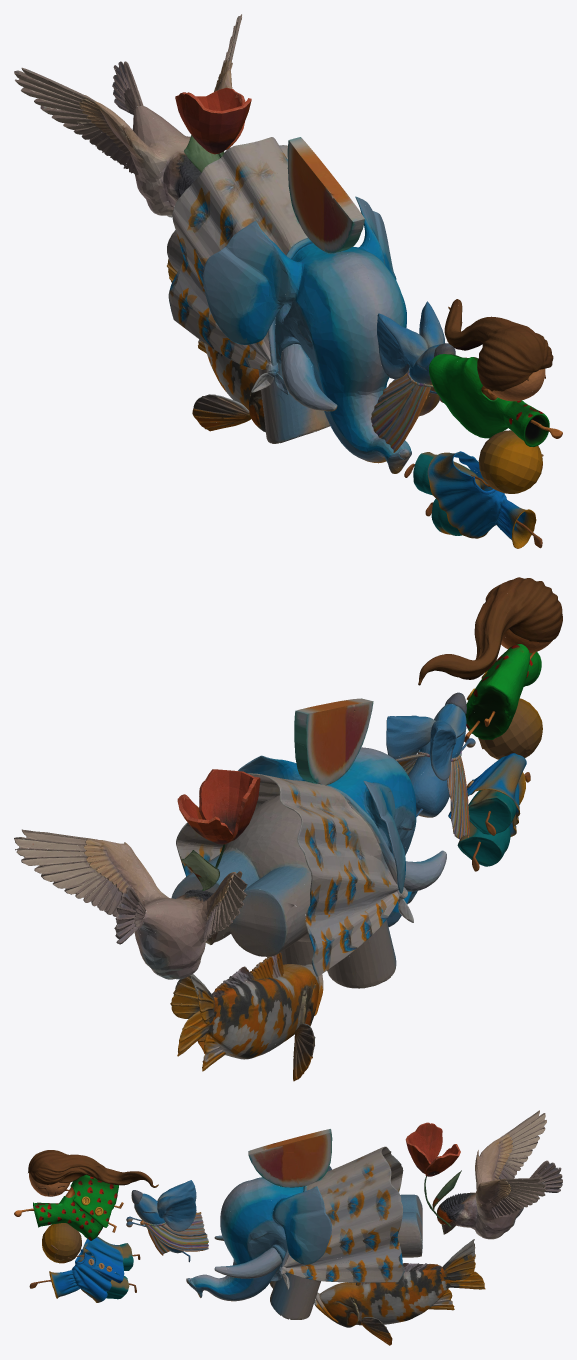
3 renders of one model, top to bottom at view 1: azimuth 30°, elevation 25°; view 2: azimuth 150°, elevation 25°; view 3: azimuth 270°, elevation 25°, orthographic. The views are drawn at different scales.
Parts seen in each view (by area): view 1: tripo_node_d55093e4-e00e-4db2-96e2-caa514134929, tripo_node_5f0a9131-3fd6-4fd2-bee0-905826a6d07b, tripo_node_90b011cb-3a7d-48a0-83c6-9944ffa150be, tripo_node_15bb5778-4c4e-4aad-800e-e8a74e84614e, tripo_node_f69ad805-37d6-4be0-85cd-078c4464b952, tripo_node_a7ec950e-5974-40b7-a642-7114323a2c81; view 2: tripo_node_d55093e4-e00e-4db2-96e2-caa514134929, tripo_node_5f0a9131-3fd6-4fd2-bee0-905826a6d07b, tripo_node_a7ec950e-5974-40b7-a642-7114323a2c81, tripo_node_90b011cb-3a7d-48a0-83c6-9944ffa150be, tripo_node_f69ad805-37d6-4be0-85cd-078c4464b952, tripo_node_15bb5778-4c4e-4aad-800e-e8a74e84614e; view 3: tripo_node_d55093e4-e00e-4db2-96e2-caa514134929, tripo_node_5f0a9131-3fd6-4fd2-bee0-905826a6d07b, tripo_node_a7ec950e-5974-40b7-a642-7114323a2c81, tripo_node_90b011cb-3a7d-48a0-83c6-9944ffa150be, tripo_node_15bb5778-4c4e-4aad-800e-e8a74e84614e, tripo_node_f69ad805-37d6-4be0-85cd-078c4464b952.
Part boxes in pixels (box(x1,y1,x2,y2)): tripo_node_d55093e4-e00e-4db2-96e2-caa514134929: box(167, 137, 411, 473); tripo_node_5f0a9131-3fd6-4fd2-bee0-905826a6d07b: box(14, 14, 251, 217); tripo_node_90b011cb-3a7d-48a0-83c6-9944ffa150be: box(429, 299, 562, 446); tripo_node_15bb5778-4c4e-4aad-800e-e8a74e84614e: box(404, 430, 543, 548); tripo_node_f69ad805-37d6-4be0-85cd-078c4464b952: box(371, 301, 455, 452); tripo_node_a7ec950e-5974-40b7-a642-7114323a2c81: box(167, 259, 265, 432); tripo_node_d55093e4-e00e-4db2-96e2-caa514134929: box(171, 698, 446, 988); tripo_node_5f0a9131-3fd6-4fd2-bee0-905826a6d07b: box(14, 769, 260, 979); tripo_node_a7ec950e-5974-40b7-a642-7114323a2c81: box(170, 952, 323, 1081); tripo_node_90b011cb-3a7d-48a0-83c6-9944ffa150be: box(418, 577, 562, 742); tripo_node_f69ad805-37d6-4be0-85cd-078c4464b952: box(386, 692, 475, 839); tripo_node_15bb5778-4c4e-4aad-800e-e8a74e84614e: box(448, 698, 542, 871); tripo_node_d55093e4-e00e-4db2-96e2-caa514134929: box(186, 1129, 422, 1319); tripo_node_5f0a9131-3fd6-4fd2-bee0-905826a6d07b: box(405, 1110, 562, 1239); tripo_node_a7ec950e-5974-40b7-a642-7114323a2c81: box(314, 1239, 485, 1345); tripo_node_90b011cb-3a7d-48a0-83c6-9944ffa150be: box(14, 1150, 158, 1240); tripo_node_15bb5778-4c4e-4aad-800e-e8a74e84614e: box(29, 1223, 140, 1302); tripo_node_f69ad805-37d6-4be0-85cd-078c4464b952: box(126, 1180, 208, 1262).
Size of the model in its own units: 1.92 by 2.56 by 6.26.
Materials: 6 (6 with a texture image).
